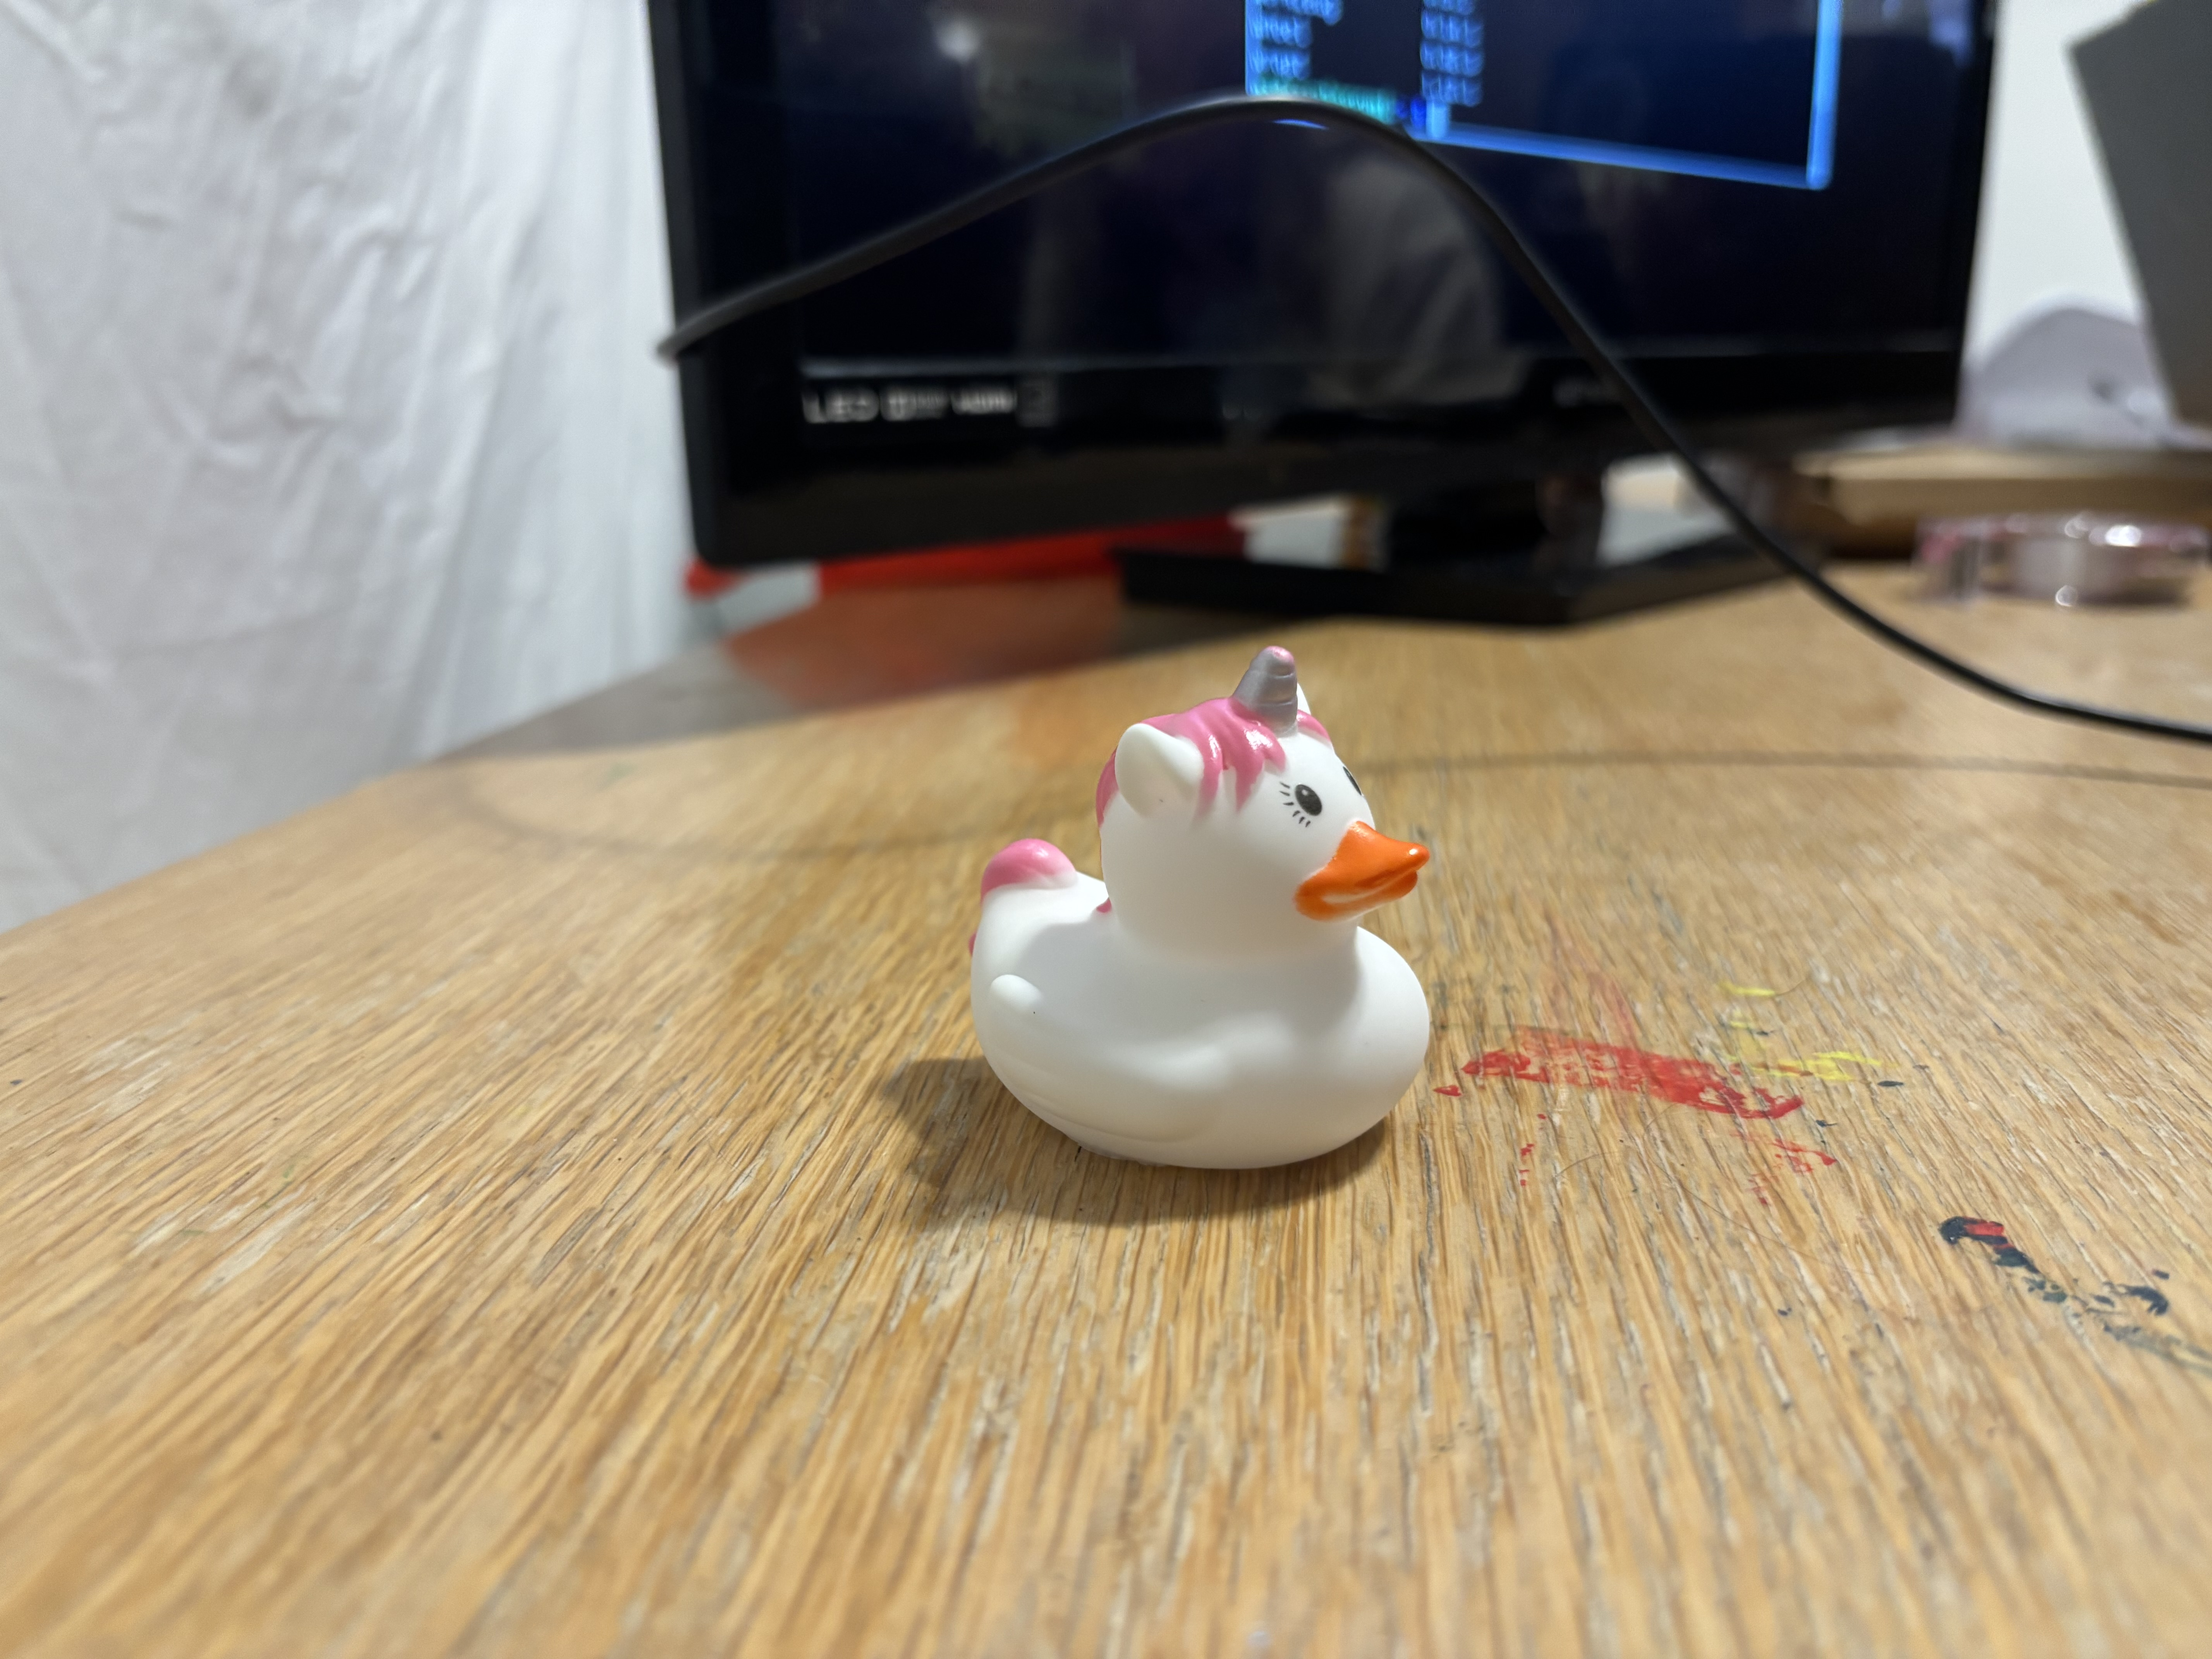Ducks (Specialty): (967, 657, 1437, 1178)
